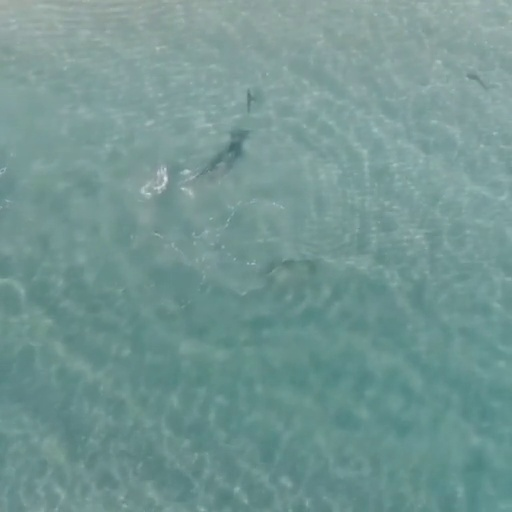shark: (191, 128, 253, 184)
